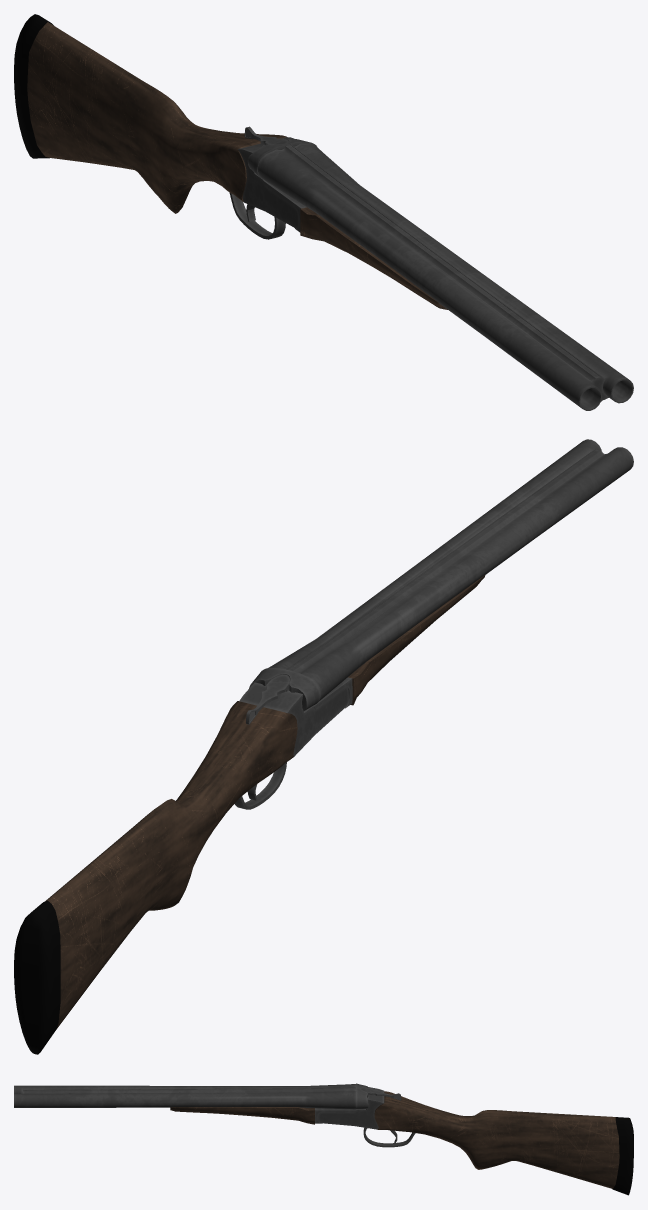
File: dBarrel.fbx
3 views of the same model, one above another, from view 1: azimuth 30°, elevation 25°; view 2: azimuth 150°, elevation 25°; view 3: azimuth 270°, elevation 25° (orthographic). The views are drawn at different scales.
Parts seen in each view (by area): view 1: gun; view 2: gun; view 3: gun.
Part boxes in pixels (x1,y1,x2,y2): gun: [14, 14, 633, 410]; gun: [14, 439, 633, 1054]; gun: [14, 1083, 633, 1195].
Size of the model in its own units: 7.97 by 24.29 by 127.
